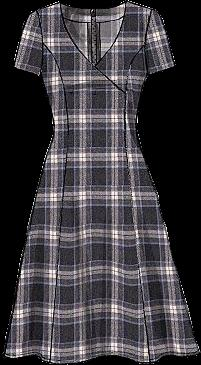Bodice: (36, 1, 152, 133)
Hemline: (3, 349, 200, 364)
Neckline: (58, 0, 128, 67)
Skirt: (6, 133, 198, 363)
Sleeve: (147, 9, 173, 76), (15, 12, 42, 74)
Sleeveline: (142, 7, 156, 76), (34, 10, 44, 75)
